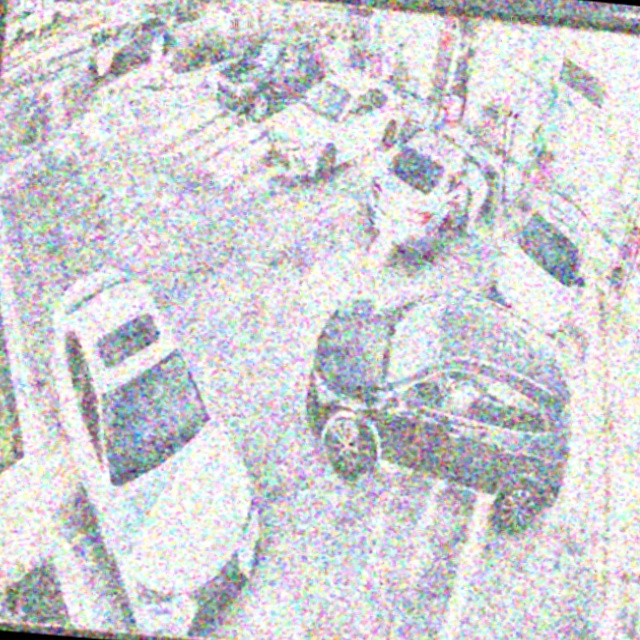Car: (17, 267, 289, 640), (292, 280, 586, 536), (361, 117, 506, 265), (263, 64, 412, 188)
